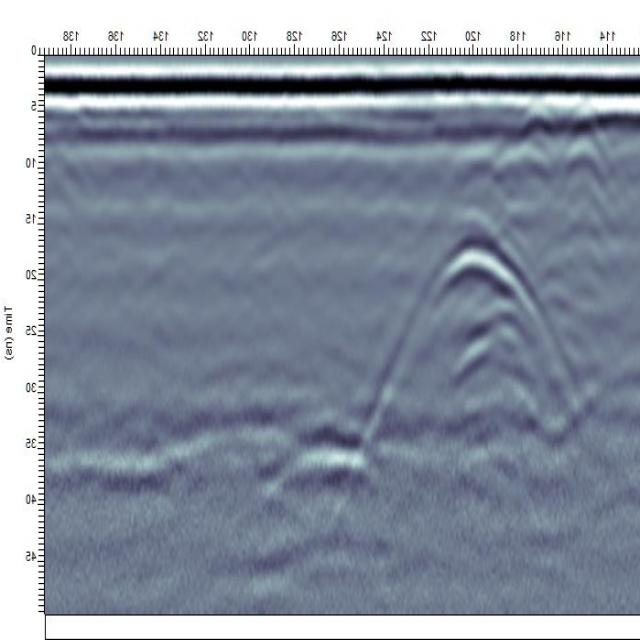hyperbola: (390, 214, 559, 410)
